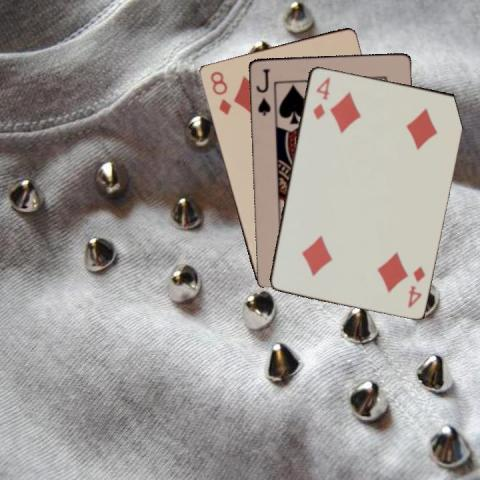4d: (310, 74, 332, 121), (404, 264, 426, 310)
8d: (206, 68, 232, 117)
Js: (253, 65, 272, 117)
